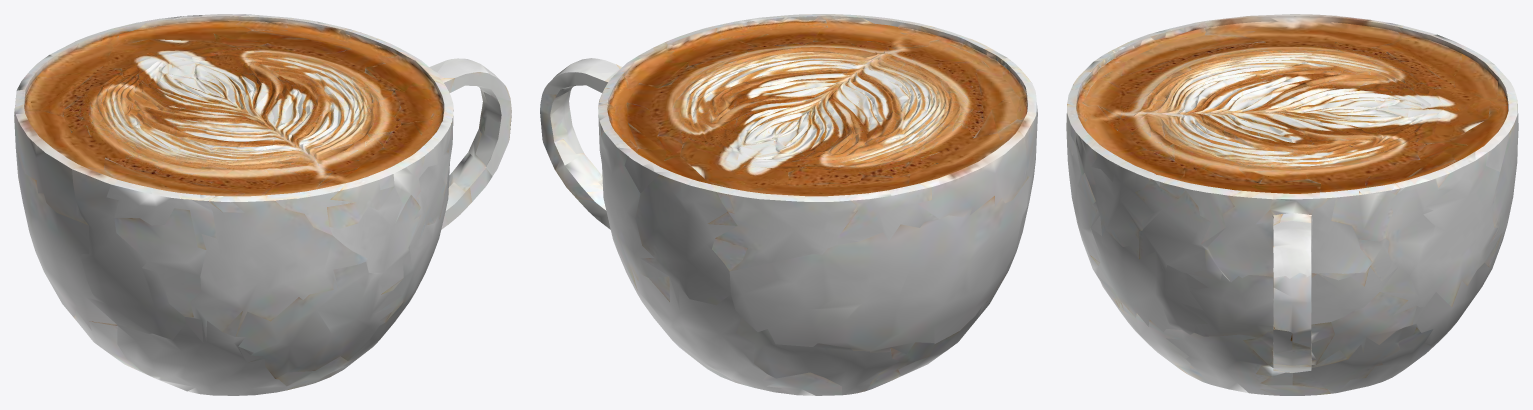
File: lantern-lite.glb
3 views of the same model, side by side, from view 1: azimuth 30°, elevation 25°; view 2: azimuth 150°, elevation 25°; view 3: azimuth 270°, elevation 25° (orthographic).
Parts seen in each view (by area): view 1: Mesh_0; view 2: Mesh_0; view 3: Mesh_0.
Boxes of the visible parts, box(x1,y1,x2,y2) form: Mesh_0: box(14, 14, 511, 395); Mesh_0: box(540, 14, 1037, 395); Mesh_0: box(1066, 14, 1518, 395).
Bounding box in the file's own units: 1.9 × 0.9369 × 1.61.
1 material, 1 textured.
